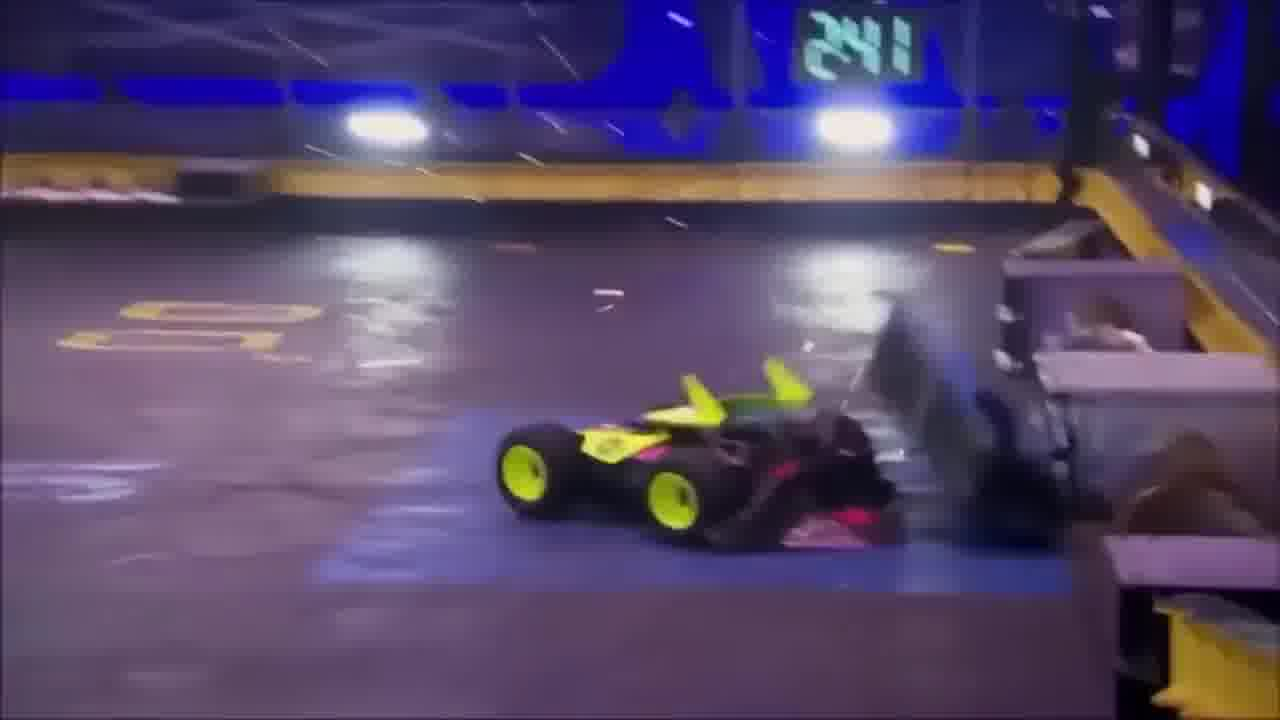combatbot: (497, 357, 898, 553), (864, 291, 1063, 548)
